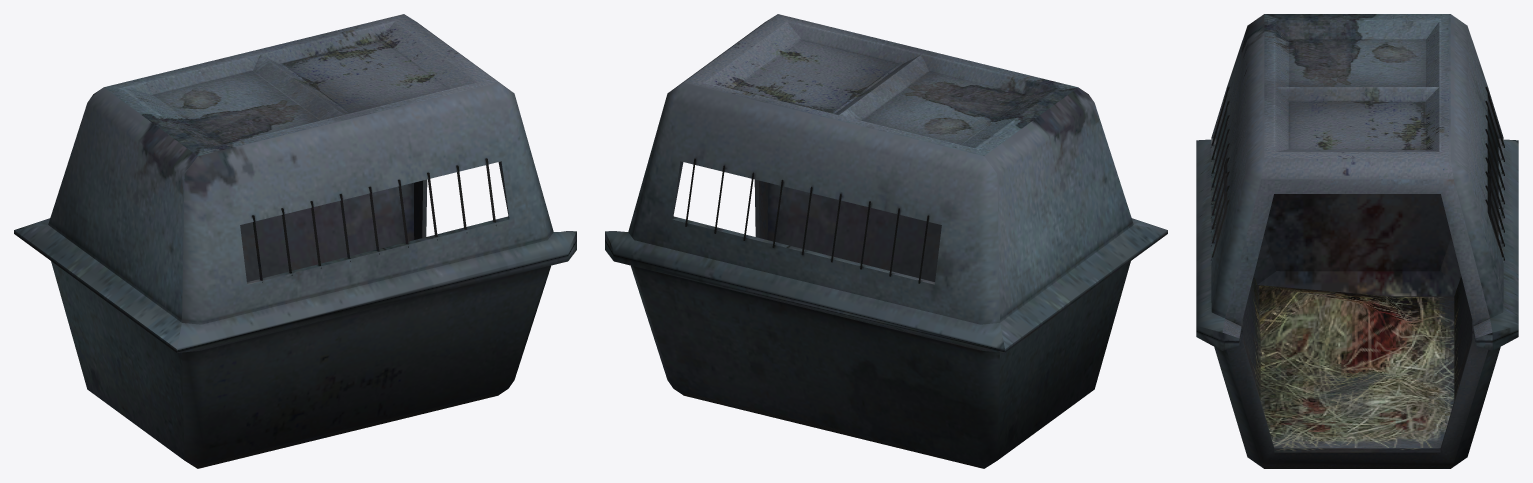
File: kennel.glb
3 views of the same model, side by side, from view 1: azimuth 30°, elevation 25°; view 2: azimuth 150°, elevation 25°; view 3: azimuth 270°, elevation 25° (orthographic).
Visible parts, largest first — view 1: kennel; view 2: kennel; view 3: kennel.
Boxes of the visible parts, x1,y1,x2,y2 form: kennel: (14,14,576,468); kennel: (605,14,1167,468); kennel: (1196,14,1518,468).
Size of the model in its own units: 1.08 by 0.7811 by 0.7369.
Materials: 1 (1 with a texture image).
